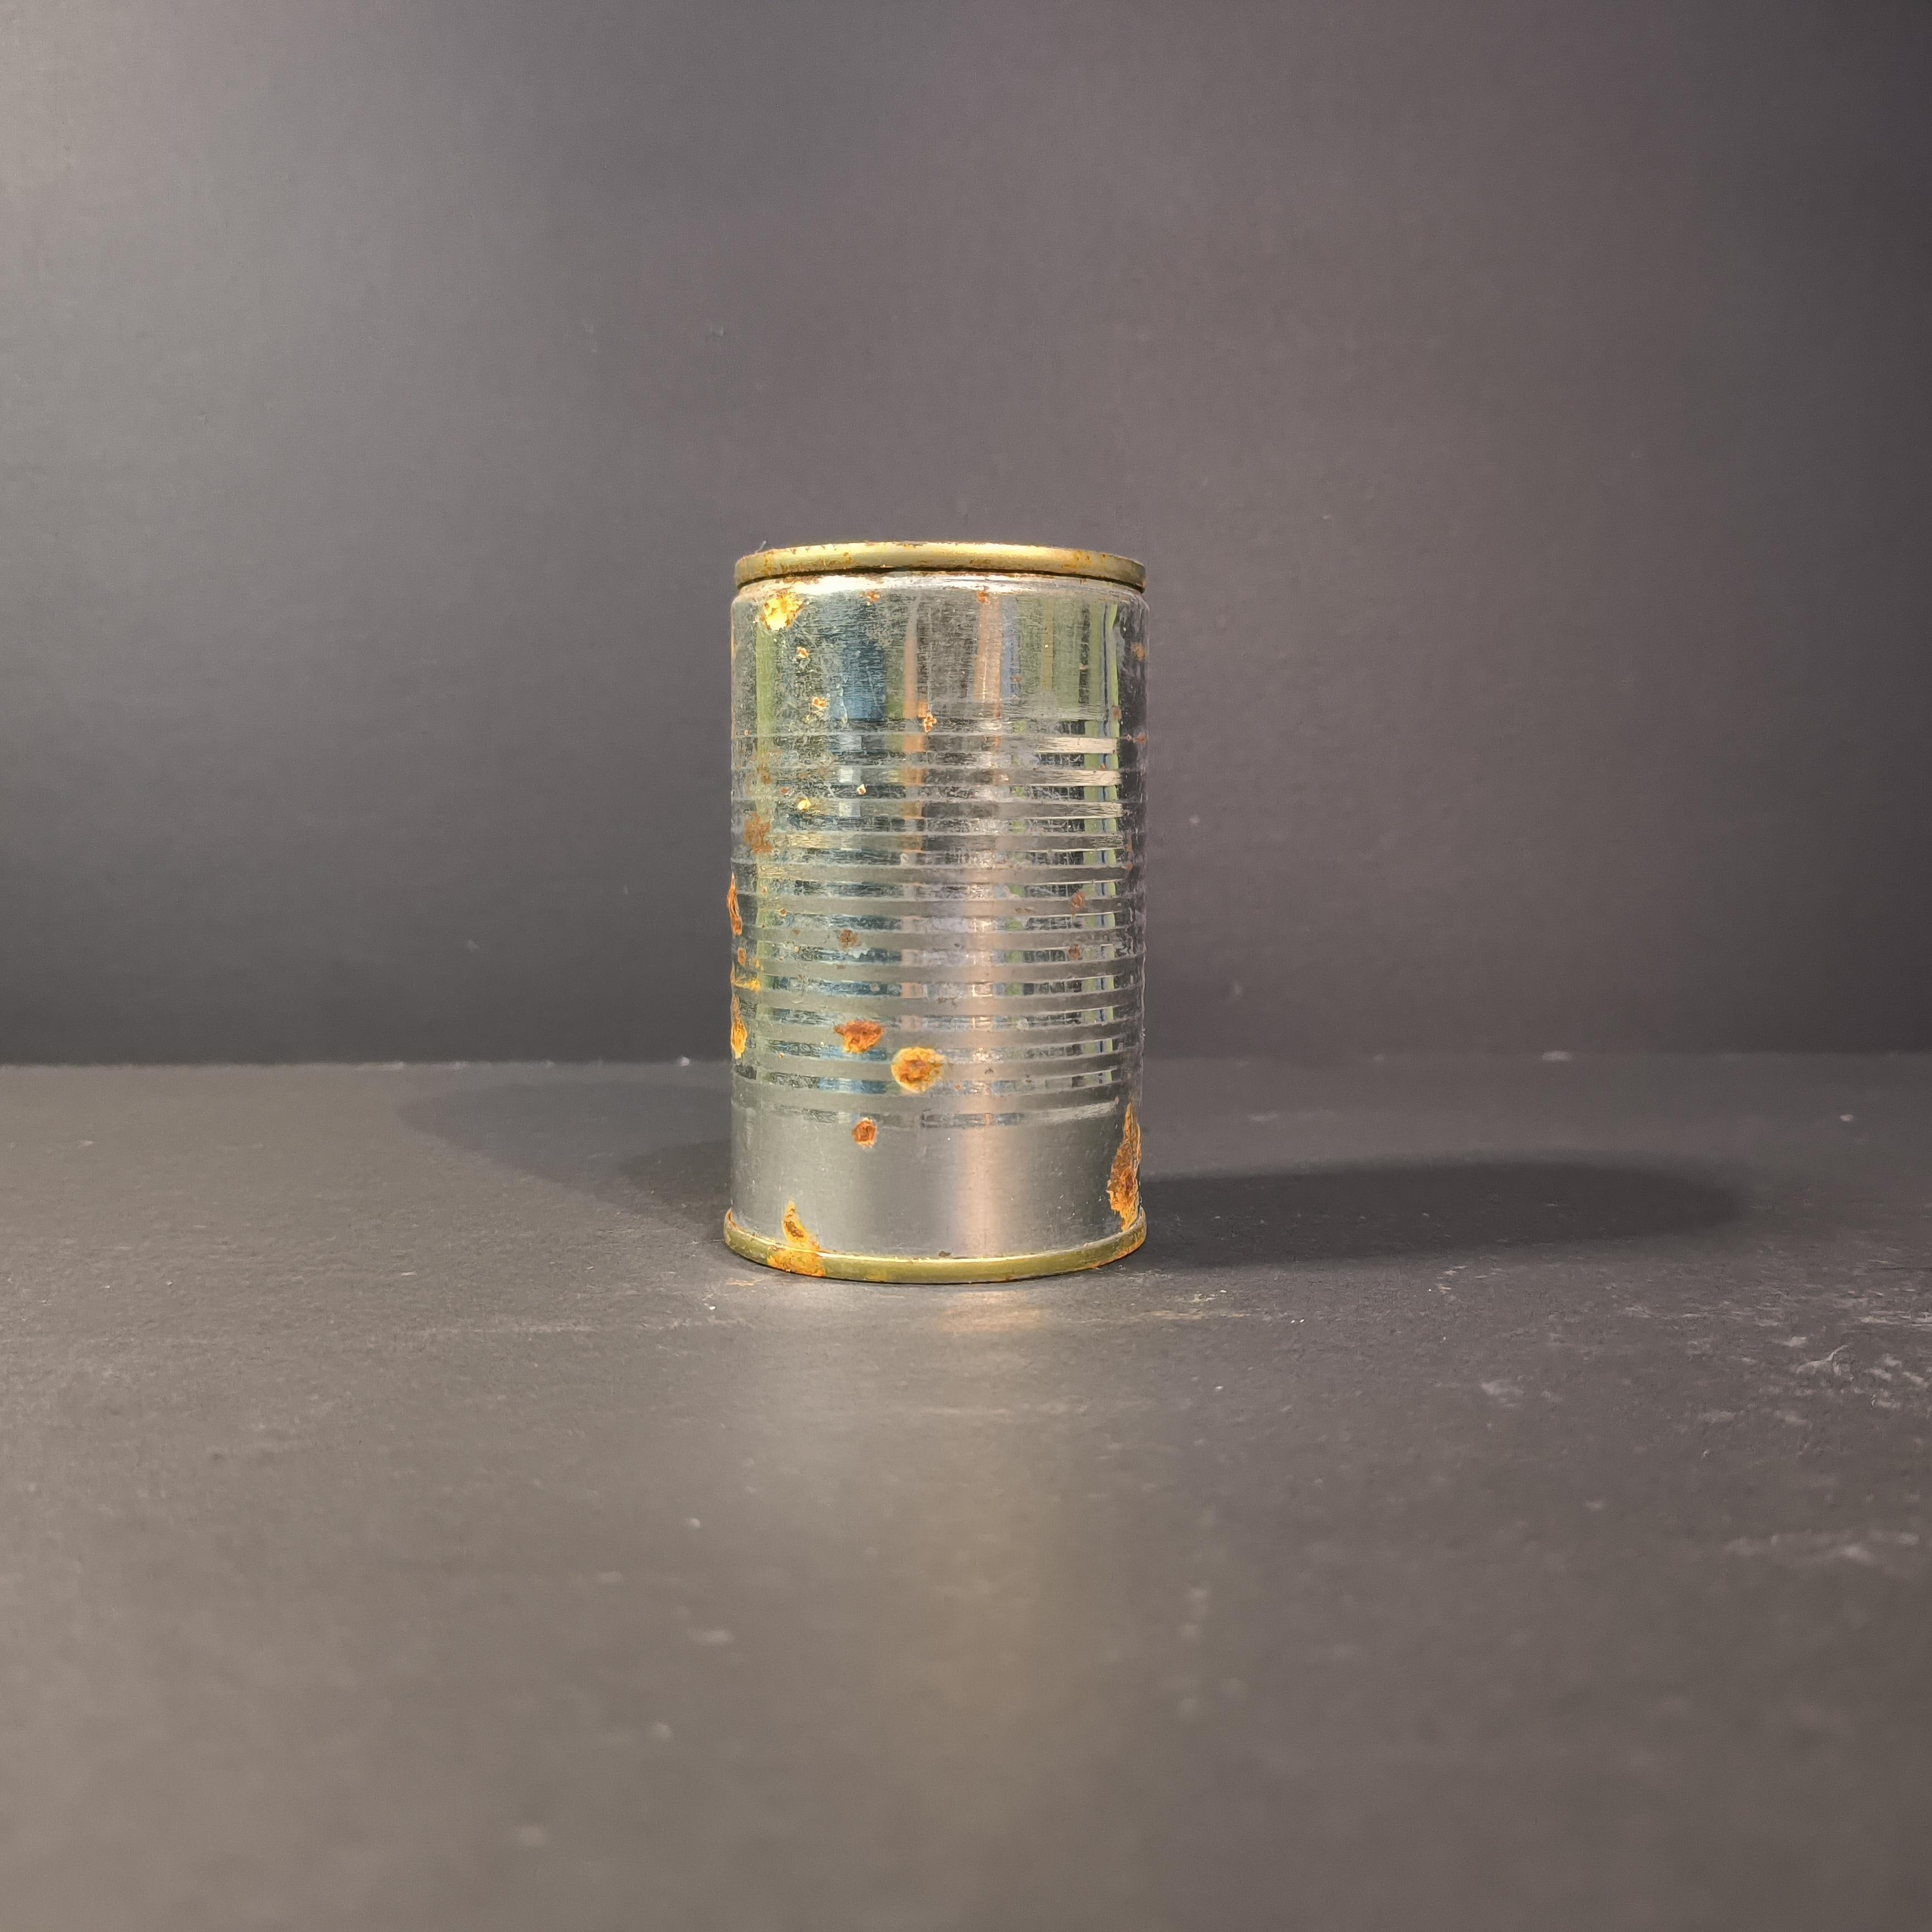Rusted: (701, 510, 1177, 1306)
